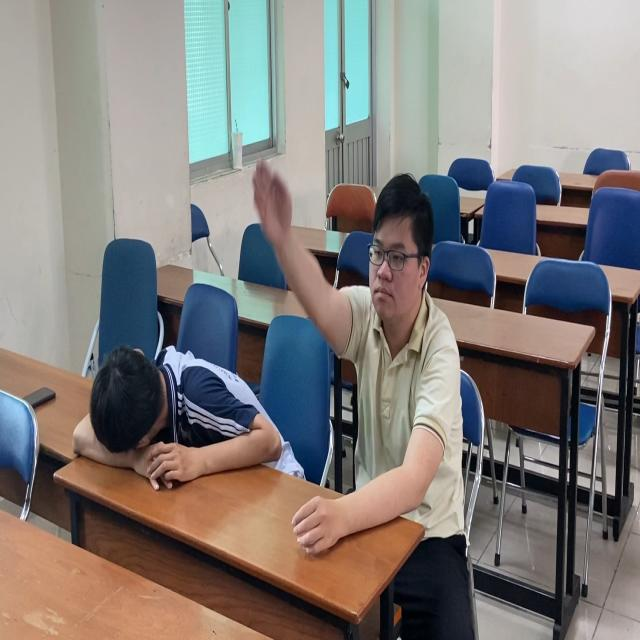raise_hand: (251, 145, 467, 567)
sleep: (70, 305, 298, 498)
